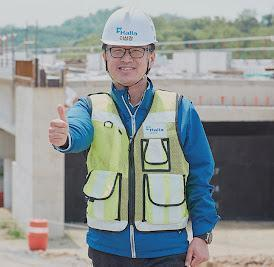helmet: (100, 5, 159, 47)
